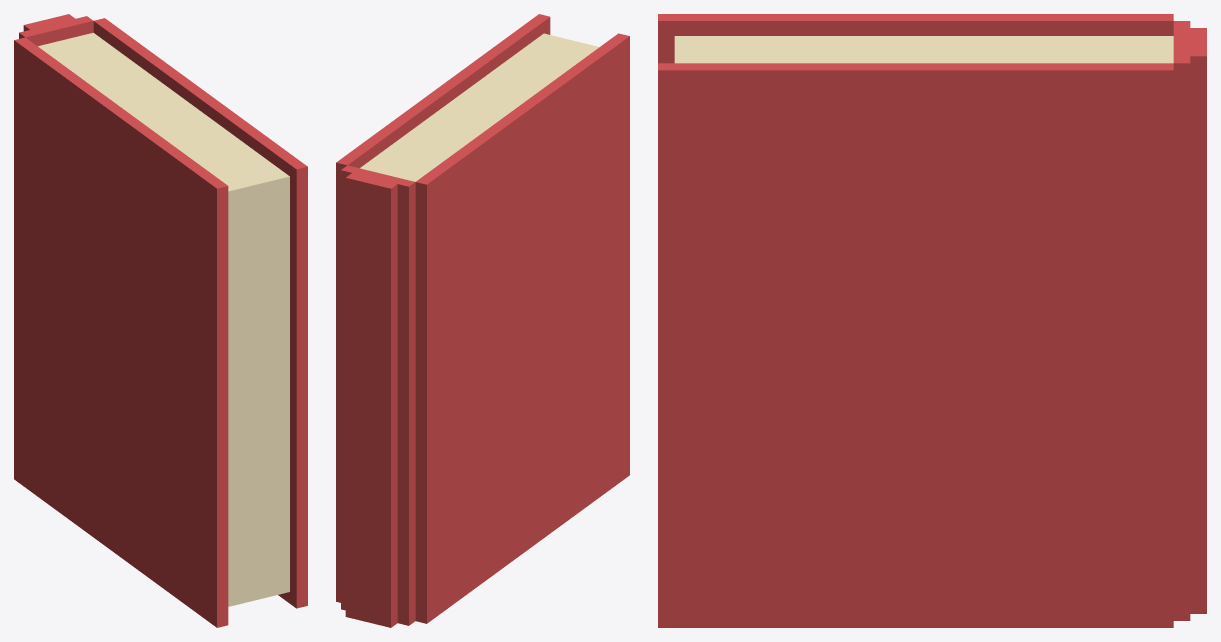
Rendered from Book4.obj.
3 views of the same model, side by side, from view 1: azimuth 30°, elevation 25°; view 2: azimuth 150°, elevation 25°; view 3: azimuth 270°, elevation 25° (orthographic). The views are drawn at different scales.
Visible parts, largest first — view 1: Book4; view 2: Book4; view 3: Book4.
Part boxes in pixels (bbox=[...]): Book4: bbox=[14, 14, 307, 627]; Book4: bbox=[336, 14, 629, 627]; Book4: bbox=[658, 14, 1206, 627].
Bounding box in the file's own units: 8 × 37 × 33.
1 material, 1 textured.
